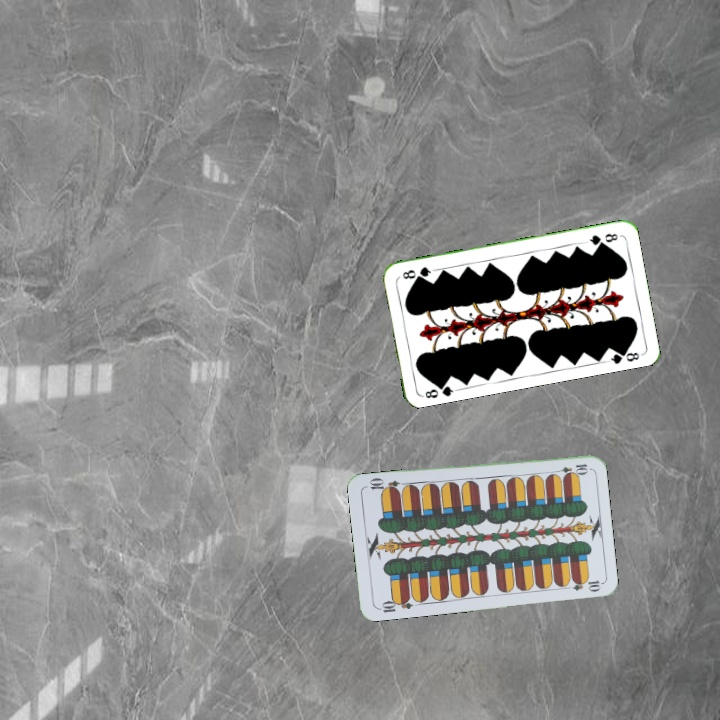E10: (374, 593, 415, 615), (550, 460, 590, 477)
G8: (419, 378, 459, 401), (582, 229, 621, 248)
